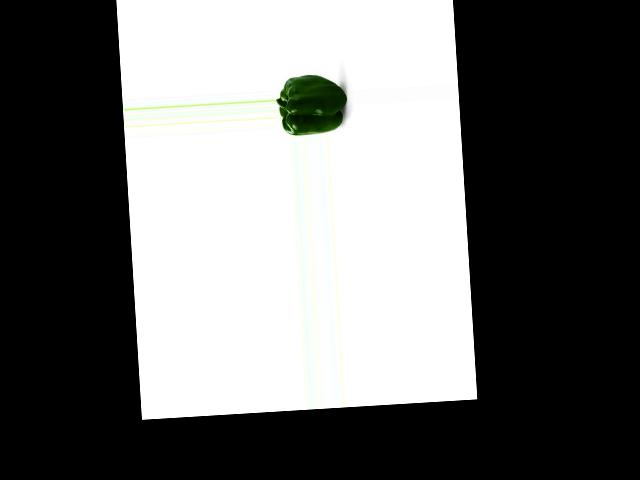bell_pepper: (276, 71, 346, 137)
